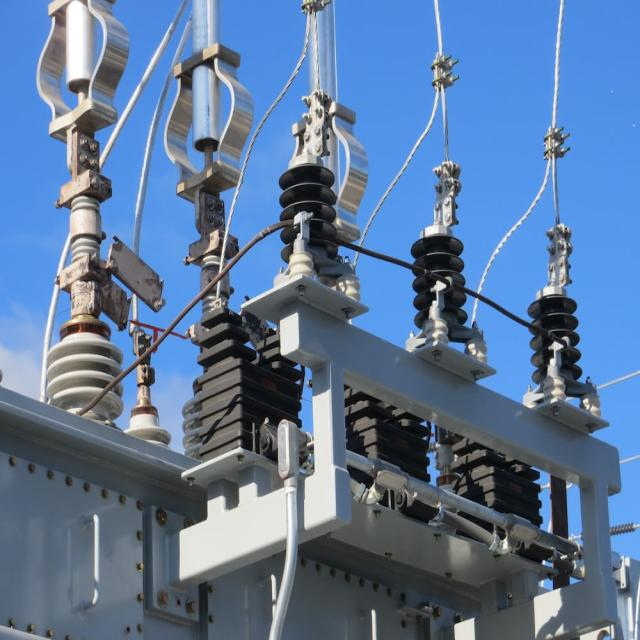insulator: (252, 145, 364, 299), (385, 204, 483, 324), (515, 282, 604, 396), (39, 306, 122, 415)
